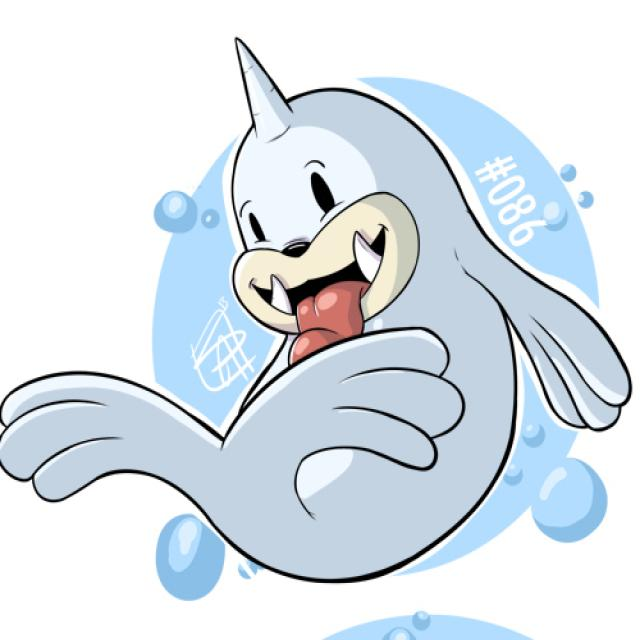Seel: (6, 40, 536, 576)
